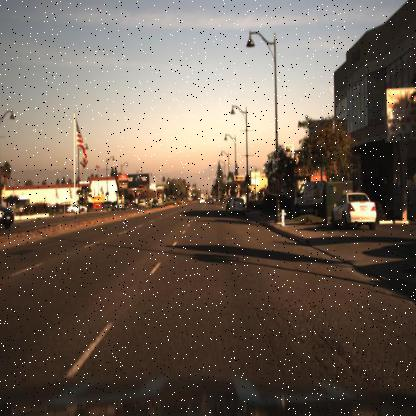car: (290, 182, 345, 215), (329, 193, 376, 229), (229, 196, 248, 215), (64, 202, 90, 215), (0, 208, 13, 228), (106, 198, 122, 214), (68, 202, 84, 215)
truck: (291, 177, 328, 219)
